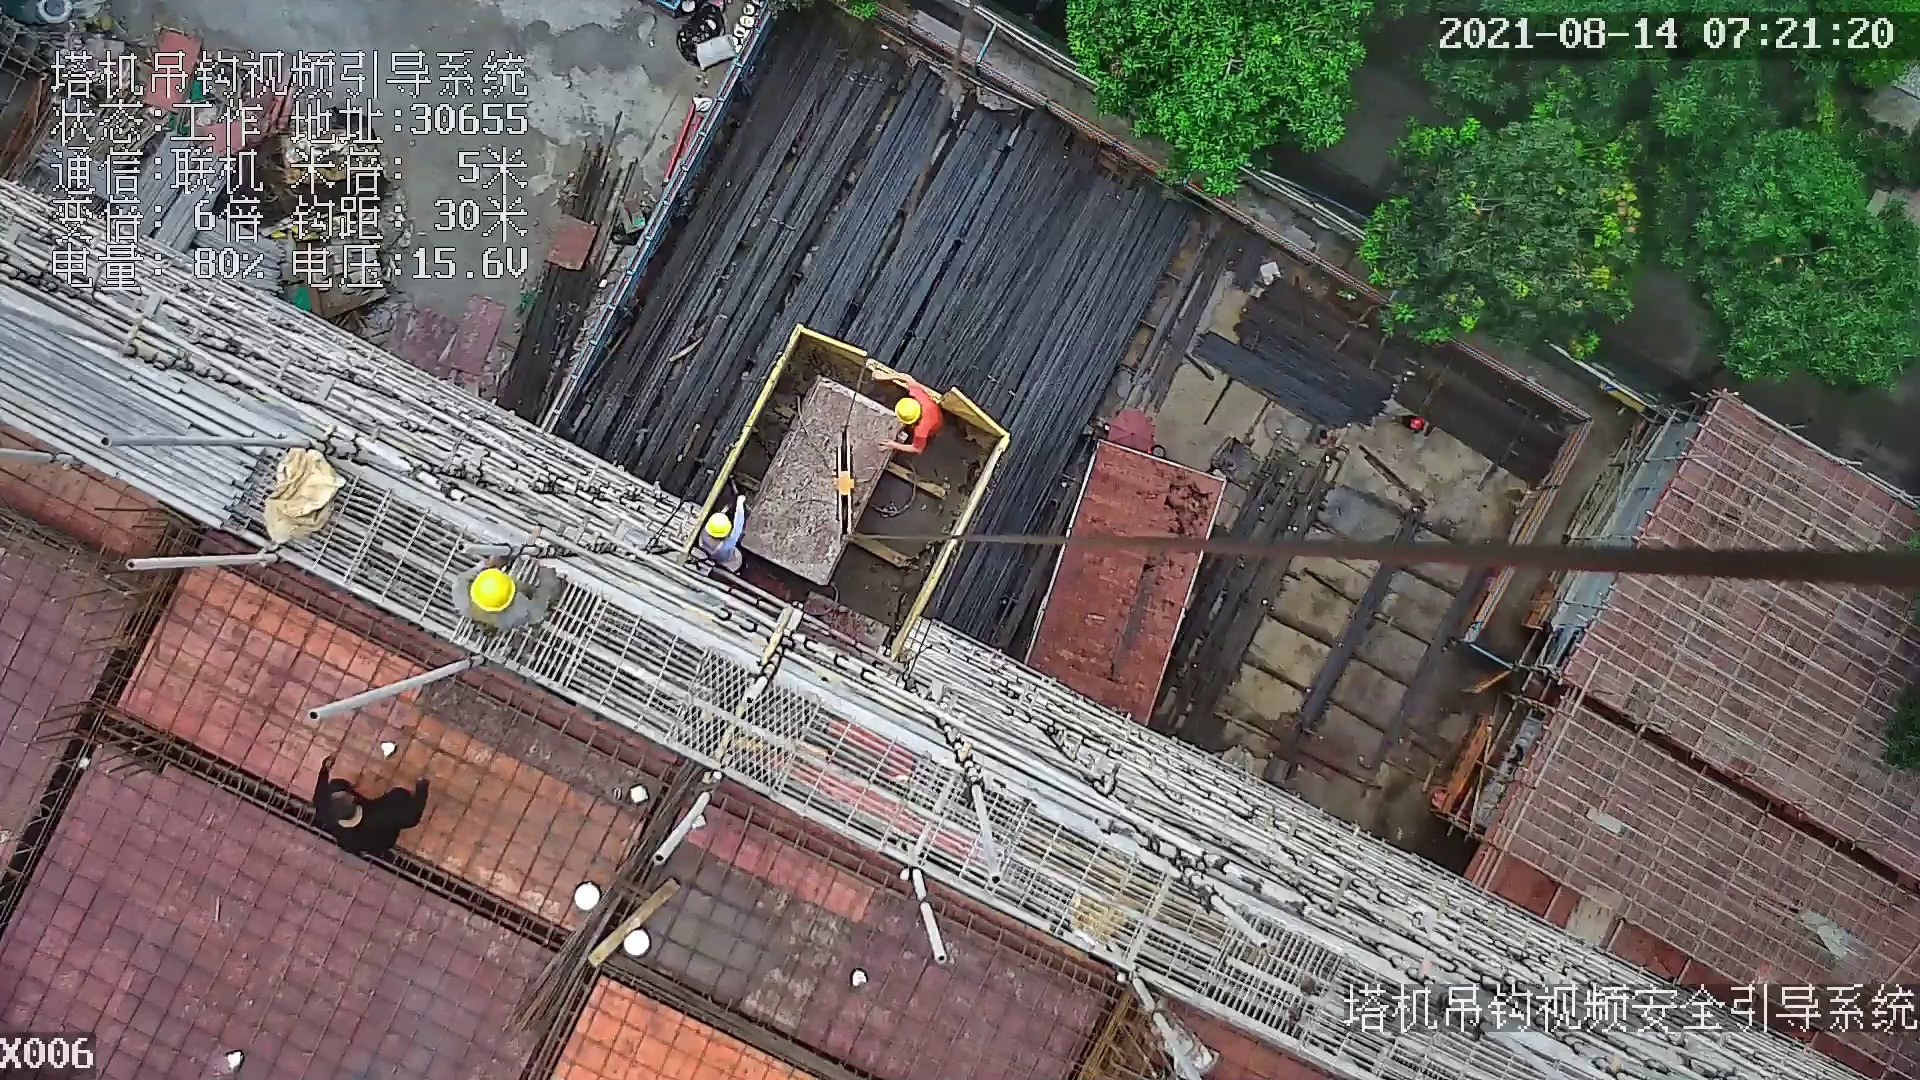helmet: (466, 565, 519, 616), (893, 393, 925, 426), (704, 509, 733, 539), (1407, 415, 1425, 432)
hook: (835, 423, 879, 549)
person: (424, 542, 572, 632), (295, 750, 426, 846), (867, 371, 953, 459), (704, 485, 747, 572), (1396, 410, 1433, 436)
